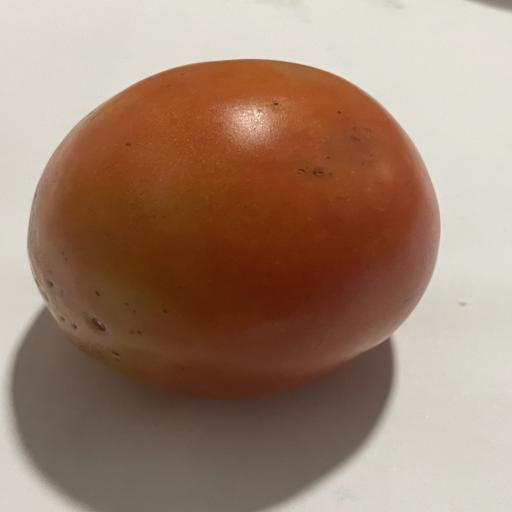ripe: (28, 60, 439, 397)
